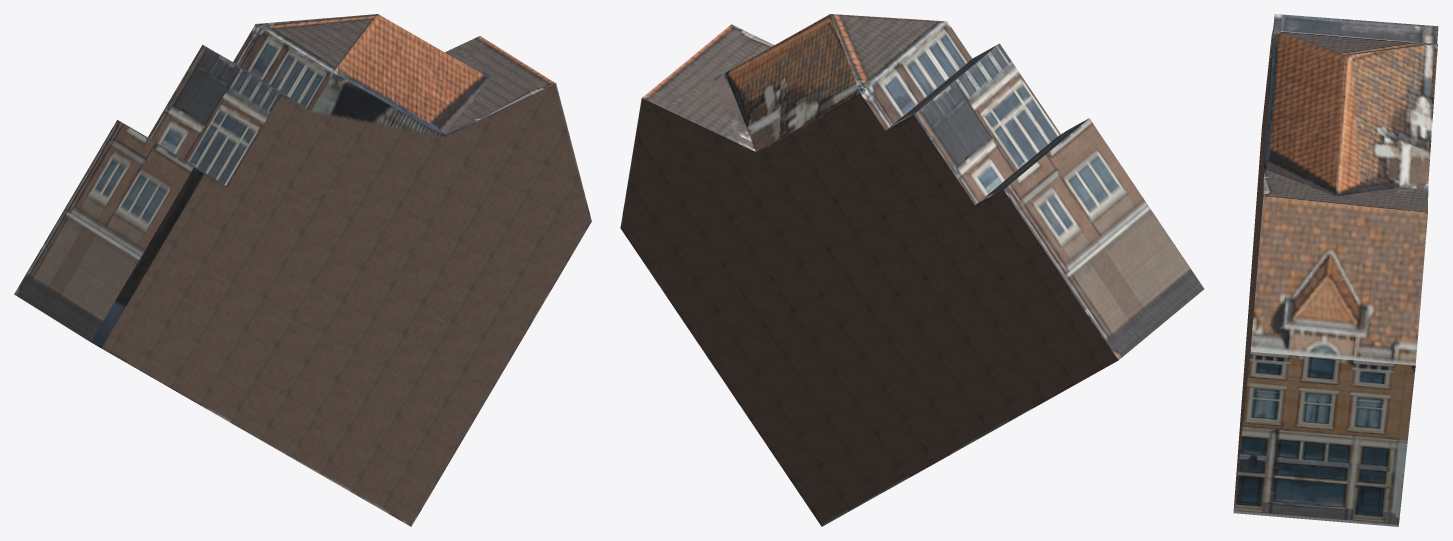
3 views of the same model, side by side, from view 1: azimuth 30°, elevation 25°; view 2: azimuth 150°, elevation 25°; view 3: azimuth 270°, elevation 25° (orthographic).
Parts seen in each view (by area): view 1: BAG_0599100000671716 (×2); view 2: BAG_0599100000671716 (×3); view 3: BAG_0599100000671716 (×3).
Boxes of the visible parts, left/top/right/bottom form: BAG_0599100000671716 (×2): left=14, top=14, right=591, bottom=526; BAG_0599100000671716 (×3): left=620, top=14, right=1204, bottom=526; BAG_0599100000671716 (×3): left=1233, top=14, right=1438, bottom=526.
Bounding box in the file's own units: 18.85 × 17.34 × 6.71.
Materials: 1 (1 with a texture image).
